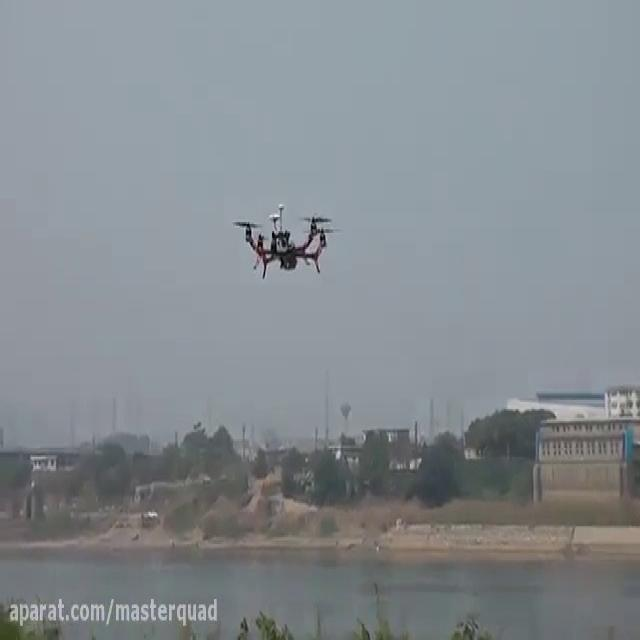drone: (227, 194, 345, 282)
